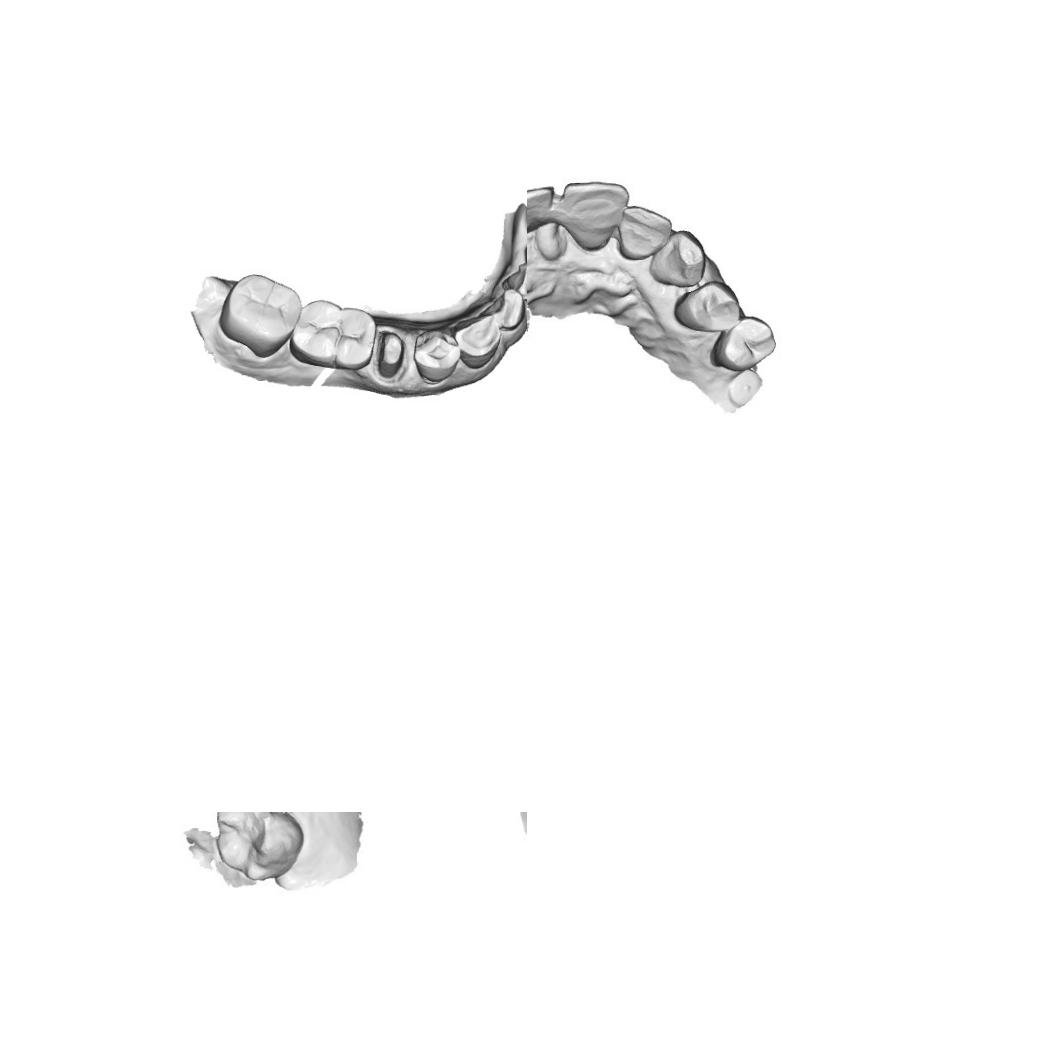canine: (650, 231, 708, 288), (448, 312, 502, 371)
crown: (371, 326, 408, 384)
implant: (728, 369, 762, 407)
incisor: (564, 180, 626, 250), (622, 200, 669, 258), (482, 286, 524, 332), (527, 185, 553, 240), (498, 261, 527, 302)
molar: (216, 270, 303, 360), (287, 296, 377, 373), (212, 812, 307, 884)
premolar: (674, 278, 744, 334), (711, 316, 777, 373), (412, 326, 463, 386)
